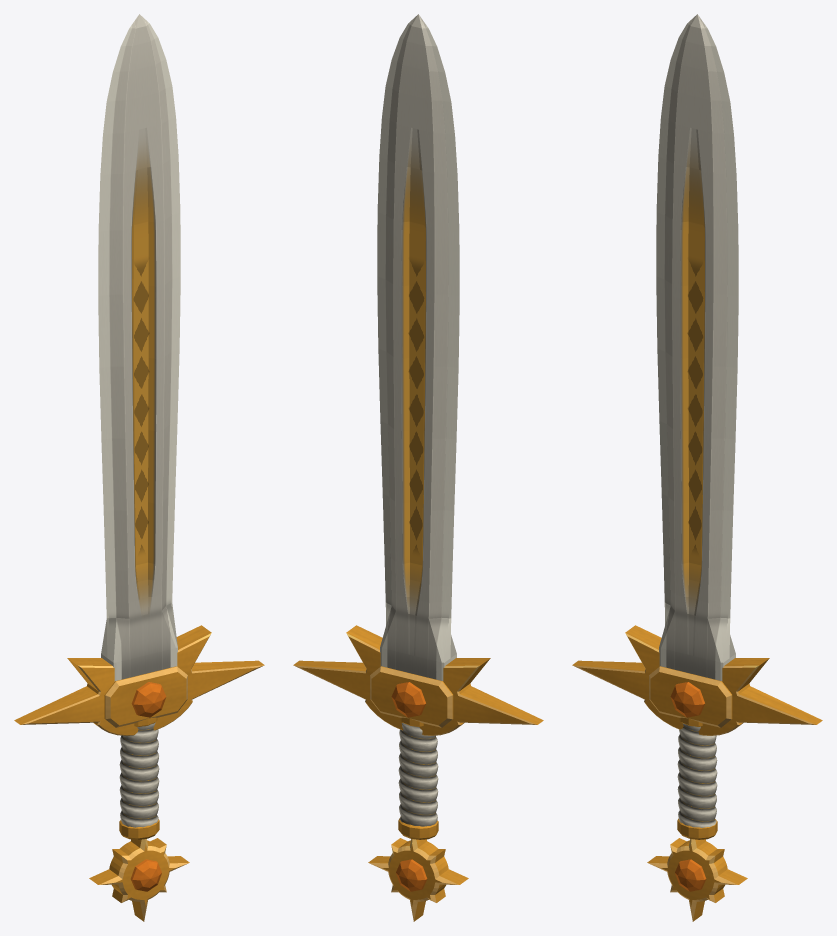
Rendered from sword_solmarch.glb.
3 renders of one model, left to right at view 1: azimuth 30°, elevation 25°; view 2: azimuth 150°, elevation 25°; view 3: azimuth 330°, elevation 25°, orthographic.
Visible parts, largest first — view 1: Sword_LOD0; view 2: Sword_LOD0; view 3: Sword_LOD0.
Part boxes in pixels (x1,y1,x2,y2): Sword_LOD0: (14,14,264,921); Sword_LOD0: (293,14,543,921); Sword_LOD0: (572,14,822,921).
Size of what is drawn, in the model's own units: 0.32 by 1.13 by 0.065.
3 materials, 3 textured.
